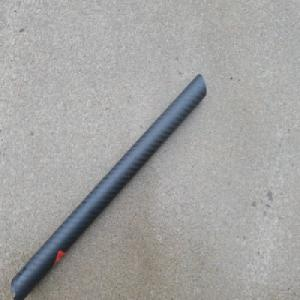LuggagePart: (10, 71, 206, 300)
